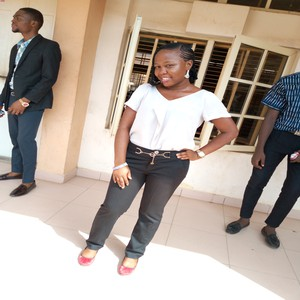Fulokoja_female_student: (117, 46, 196, 265)
Fulokoja_male_student: (8, 7, 62, 187), (269, 79, 300, 197)
